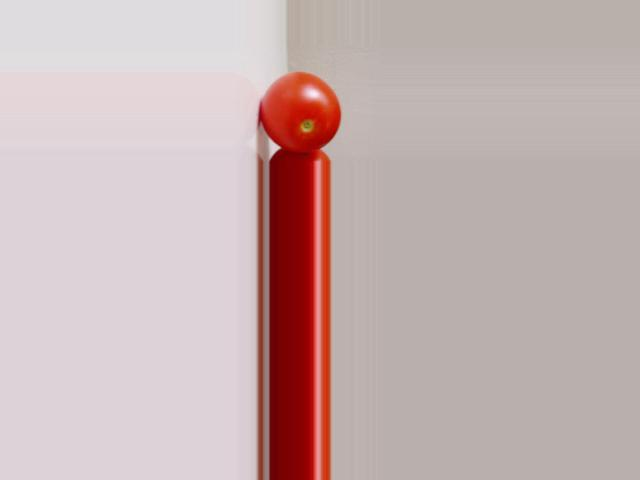tomato: (261, 72, 340, 152)
